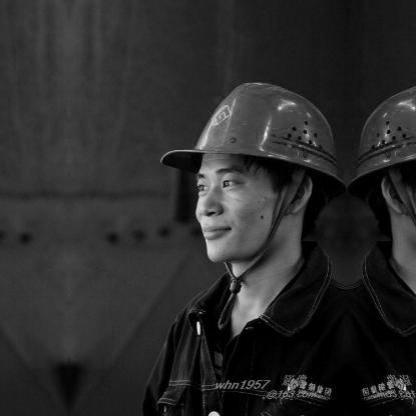helmet: (160, 68, 345, 287), (347, 67, 414, 287)
